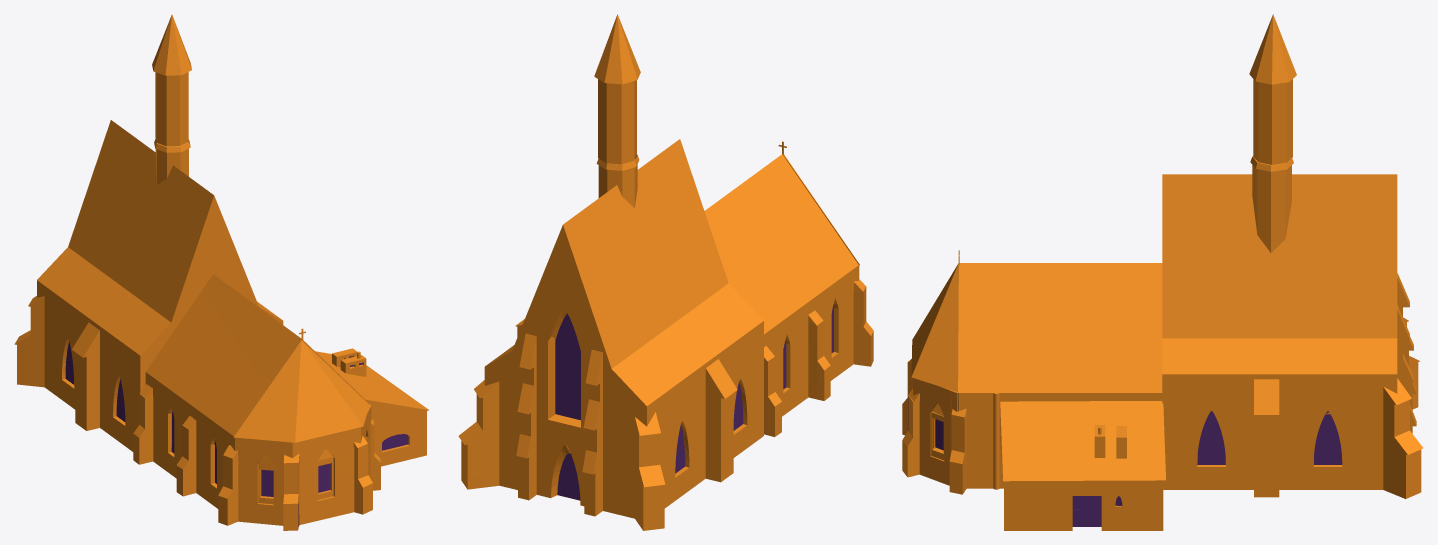
File: Sw Wacław.obj
3 renders of one model, left to right at view 1: azimuth 30°, elevation 25°; view 2: azimuth 150°, elevation 25°; view 3: azimuth 270°, elevation 25°, orthographic. The views are drawn at different scales.
Visible parts, largest first — view 1: Radom_3D_Sw_Waclaw_2; view 2: Radom_3D_Sw_Waclaw_2; view 3: Radom_3D_Sw_Waclaw_2.
Part boxes in pixels (left/top/right/bottom): Radom_3D_Sw_Waclaw_2: left=14, top=14, right=428, bottom=530; Radom_3D_Sw_Waclaw_2: left=458, top=14, right=873, bottom=530; Radom_3D_Sw_Waclaw_2: left=902, top=14, right=1423, bottom=530.
Bounding box in the file's own units: 31.64 × 49.13 × 52.61.
